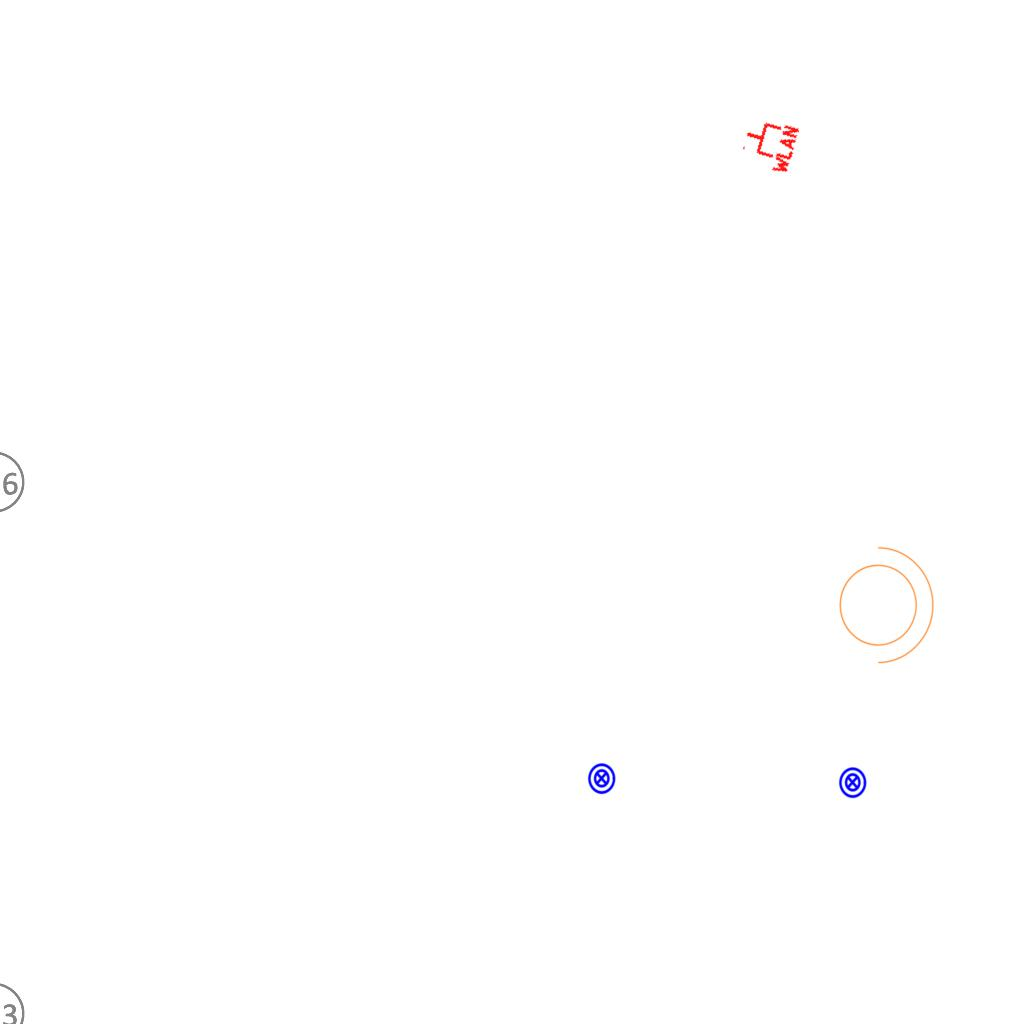Scheinwerfer_fuer_Alarmbeleuchtung: (827, 536, 939, 668)
Taster_beleuchtet: (585, 762, 618, 795), (836, 766, 869, 799)
WLAN: (736, 112, 802, 178)
